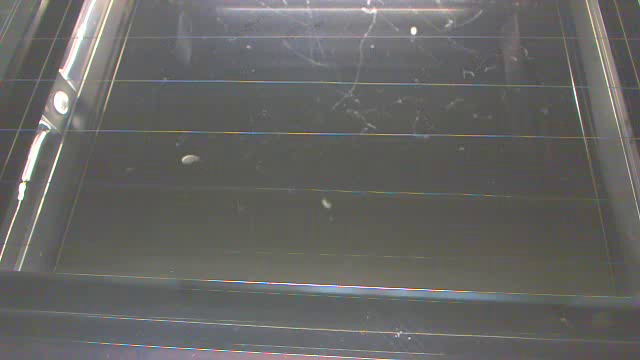alpha: (175, 147, 206, 172), (410, 24, 420, 40)
